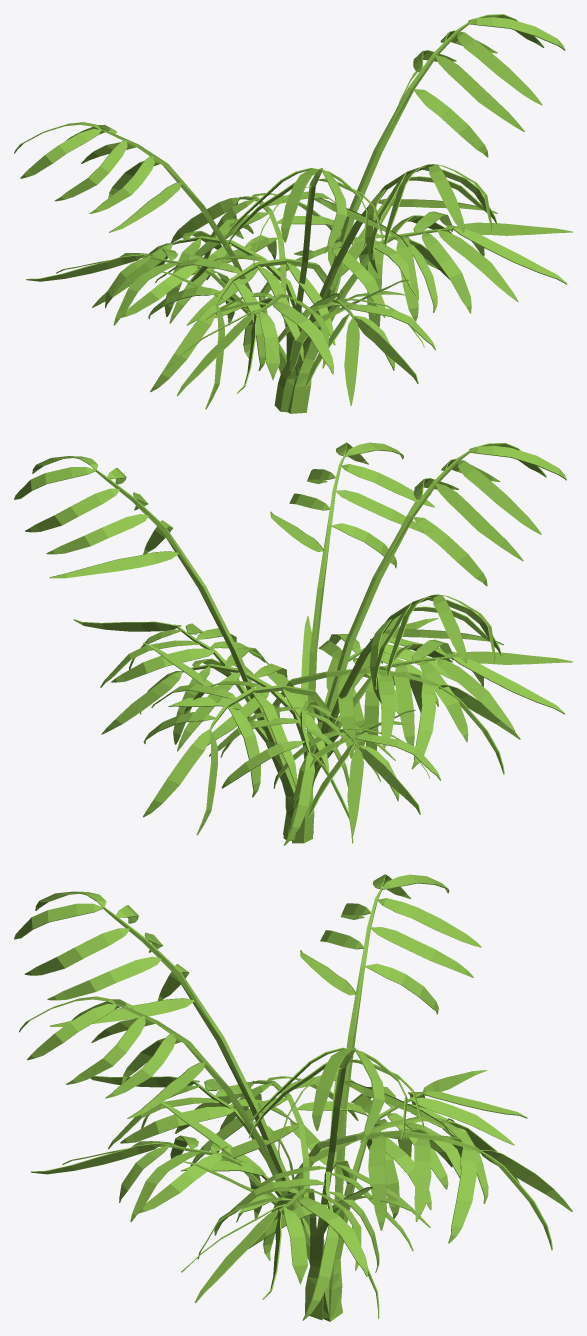
Rendered from fern_plant_fixed.glb.
3 renders of one model, top to bottom at view 1: azimuth 30°, elevation 25°; view 2: azimuth 150°, elevation 25°; view 3: azimuth 270°, elevation 25°, orthographic. The views are drawn at different scales.
Parts seen in each view (by area): view 1: group492173252.001; view 2: group492173252.001; view 3: group492173252.001.
Boxes of the visible parts, x1,y1,x2,y2 form: group492173252.001: [14, 14, 572, 413]; group492173252.001: [14, 442, 572, 845]; group492173252.001: [14, 874, 572, 1321].
Size of the model in its own units: 2.93 by 1.87 by 2.54.
